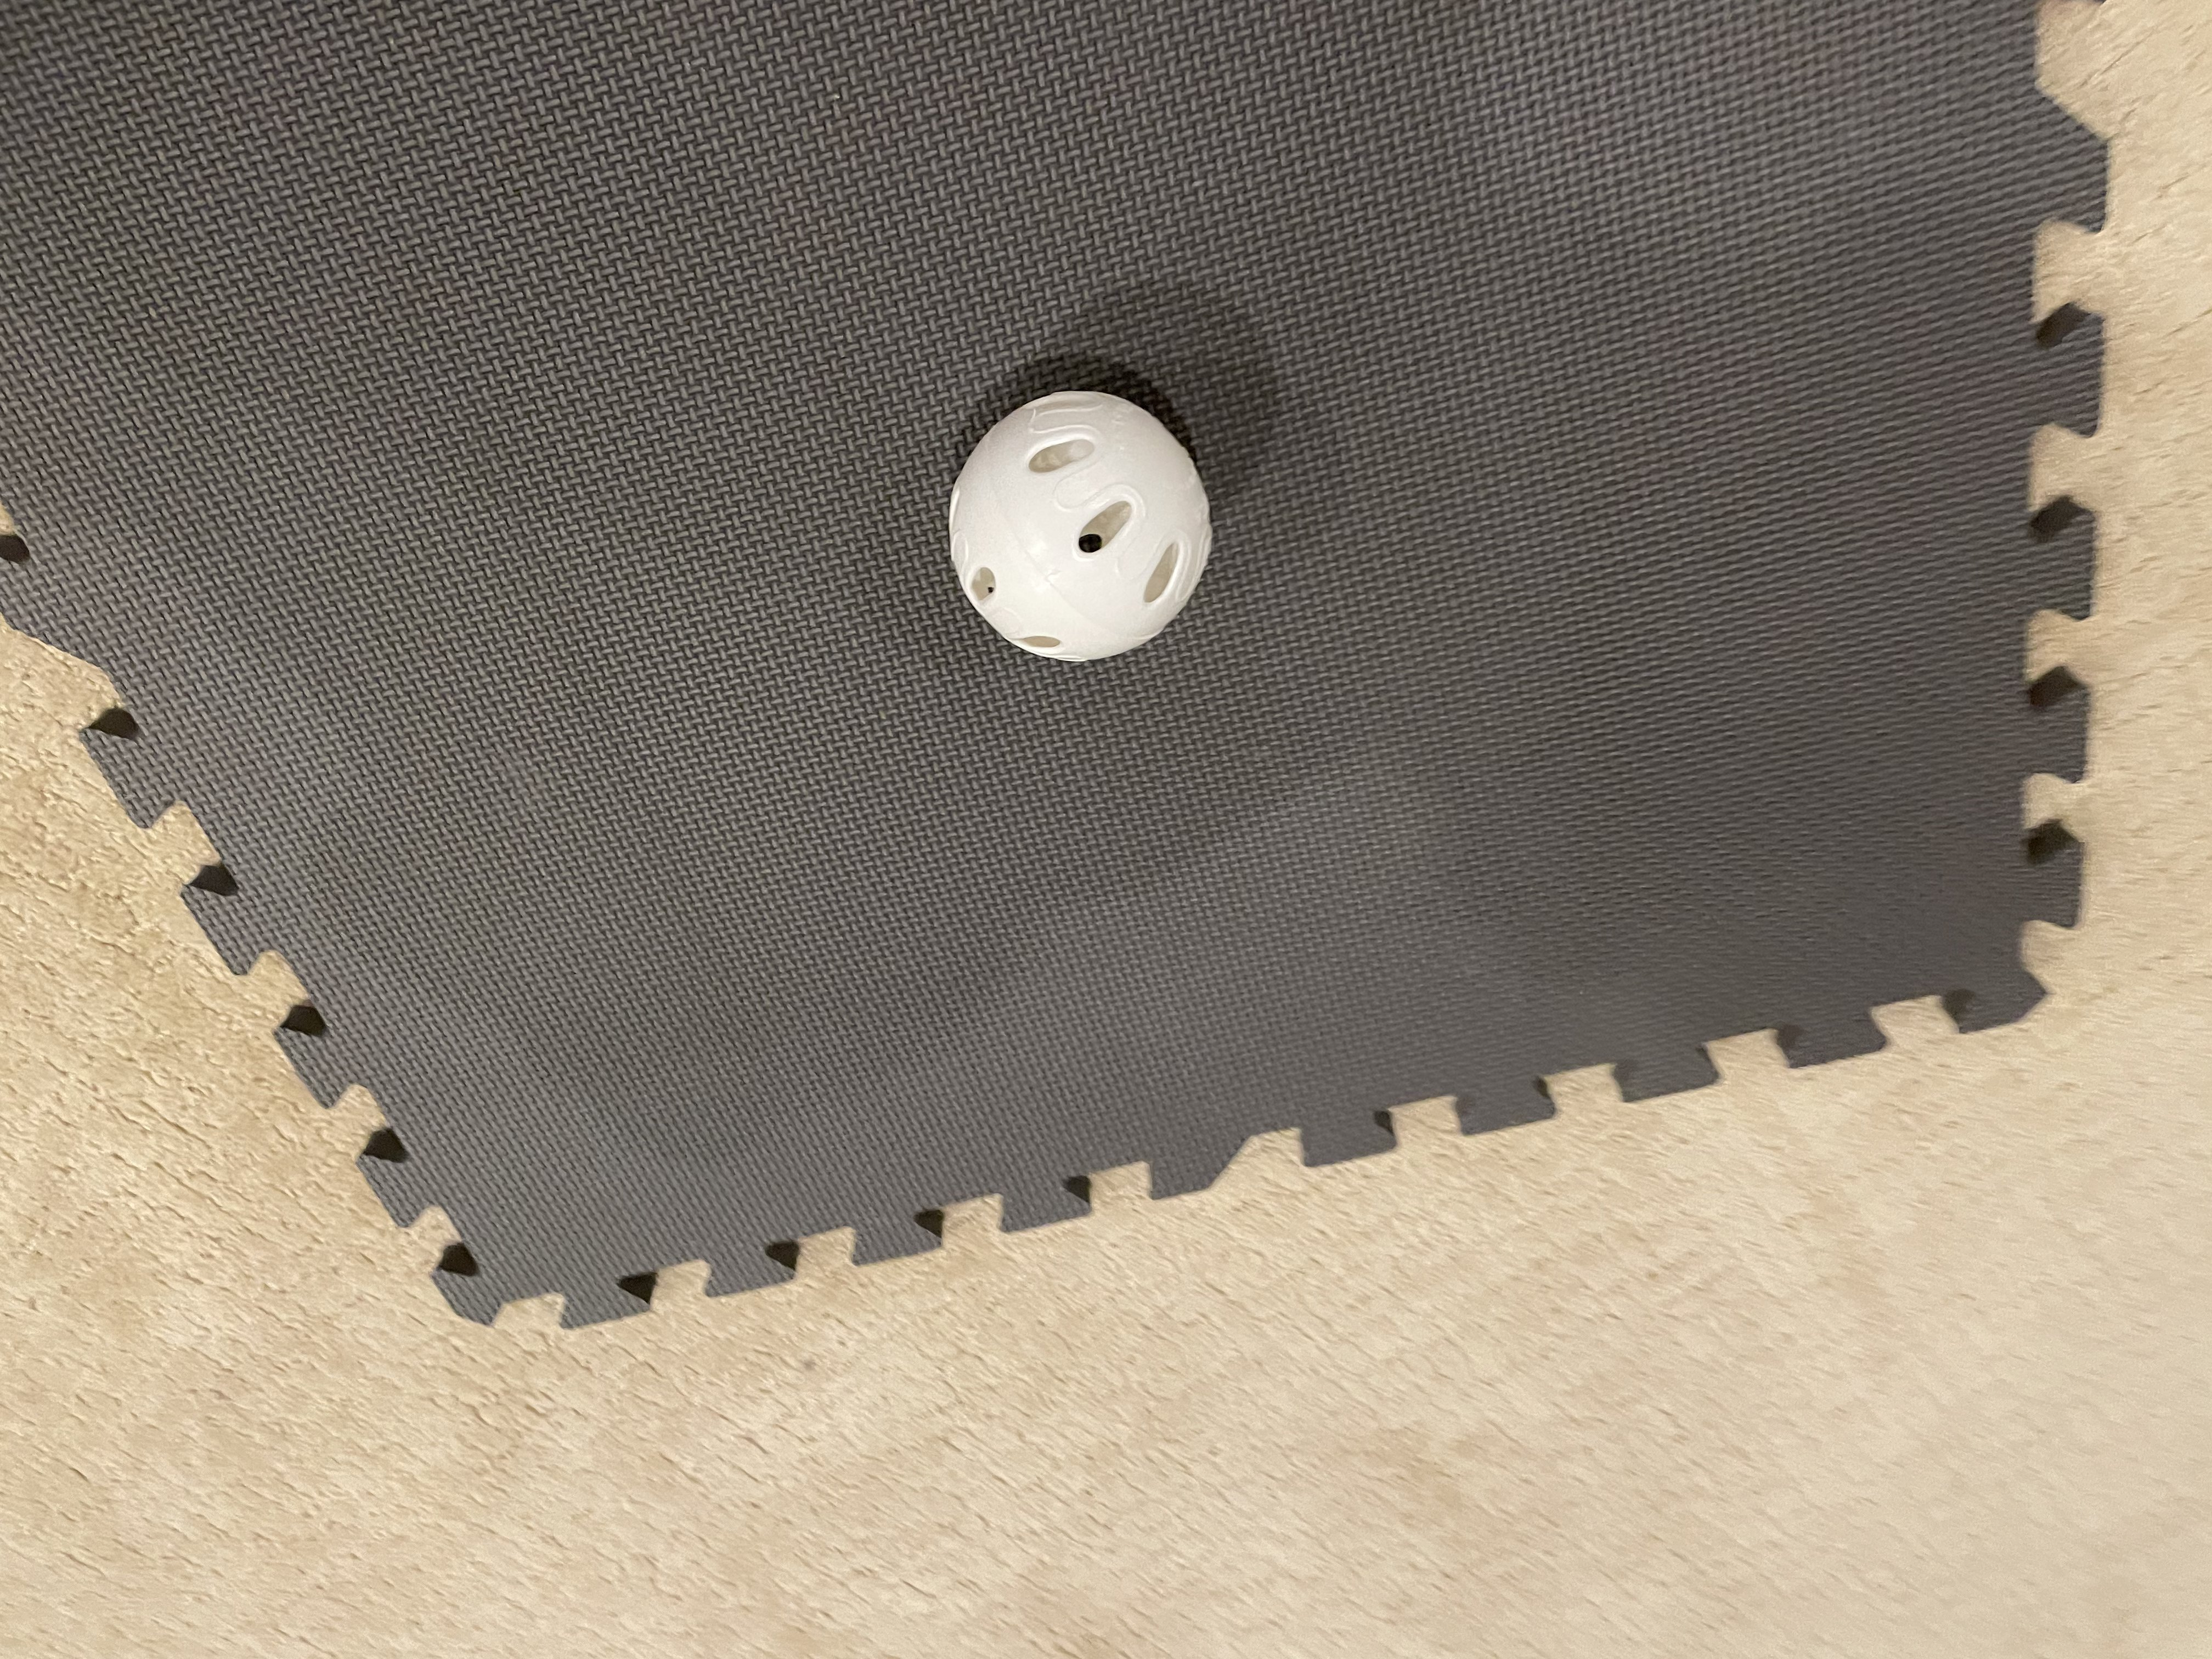ball: (899, 342, 1249, 692)
